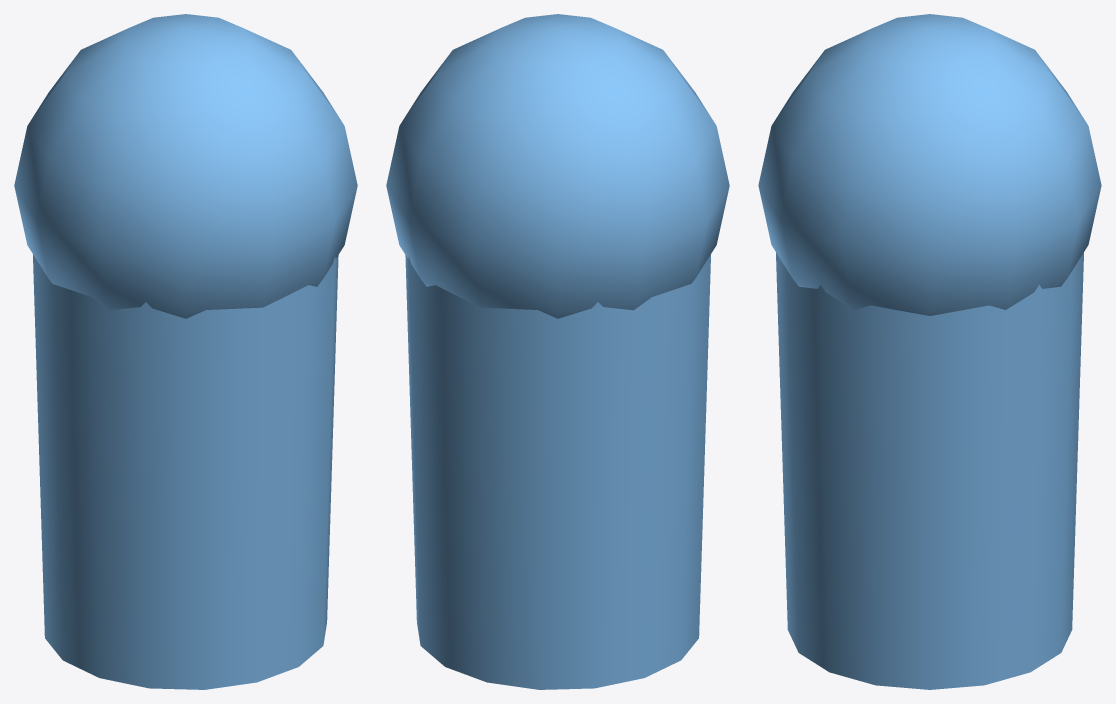
The model's file is sam_upperarm.glb.
3 views of the same model, side by side, from view 1: azimuth 30°, elevation 25°; view 2: azimuth 150°, elevation 25°; view 3: azimuth 270°, elevation 25° (orthographic).
Parts seen in each view (by area): view 1: sam_upperarm; view 2: sam_upperarm; view 3: sam_upperarm.
Boxes of the visible parts, x1,y1,x2,y2 form: sam_upperarm: [14, 14, 357, 689]; sam_upperarm: [386, 14, 729, 689]; sam_upperarm: [758, 14, 1101, 689].
Size of the model in its own units: 0.14 by 0.27 by 0.14.
